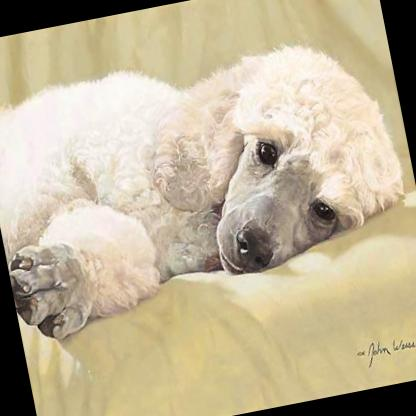miniature_poodle: (0, 17, 416, 346)
